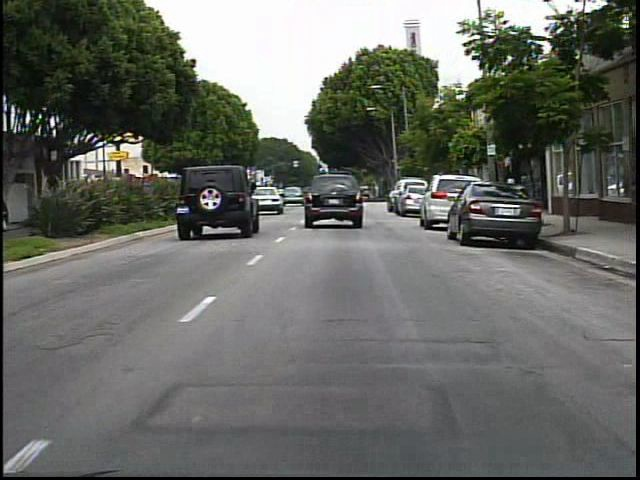person: (502, 164, 524, 219)
